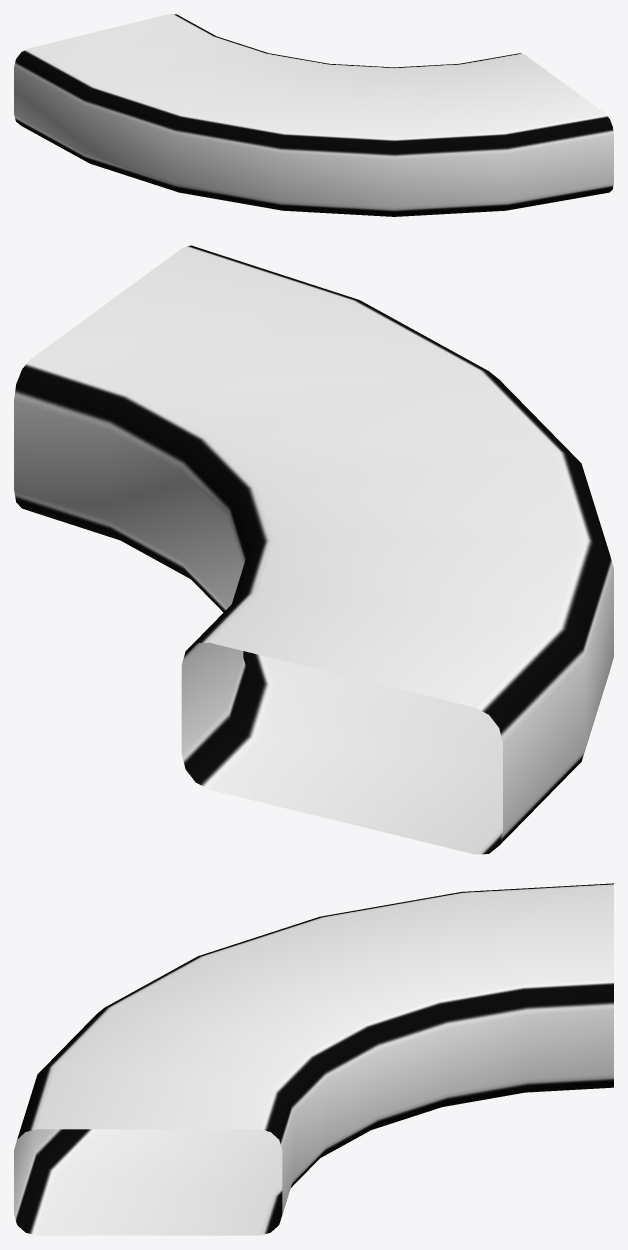
The model's file is movementArrowCorner.fbx.
3 renders of one model, top to bottom at view 1: azimuth 30°, elevation 25°; view 2: azimuth 150°, elevation 25°; view 3: azimuth 270°, elevation 25°, orthographic. The views are drawn at different scales.
Visible parts, largest first — view 1: Cube_000; view 2: Cube_000; view 3: Cube_000.
Boxes of the visible parts, left/top/right/bottom form: Cube_000: left=14, top=14, right=613, bottom=216; Cube_000: left=14, top=245, right=613, bottom=854; Cube_000: left=14, top=883, right=613, bottom=1235.
Size of the model in its own units: 0.644 by 0.126 by 0.644.
